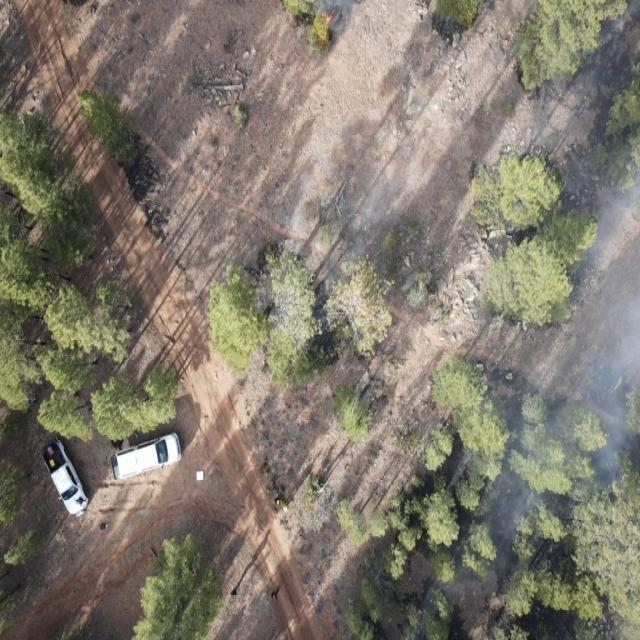fire: (311, 8, 339, 46)
smoke: (475, 0, 640, 640), (266, 168, 415, 352)
